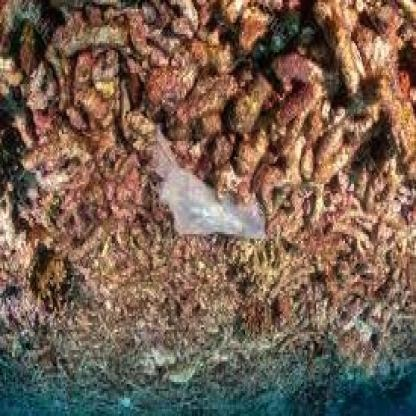pbag: (147, 120, 269, 248)
